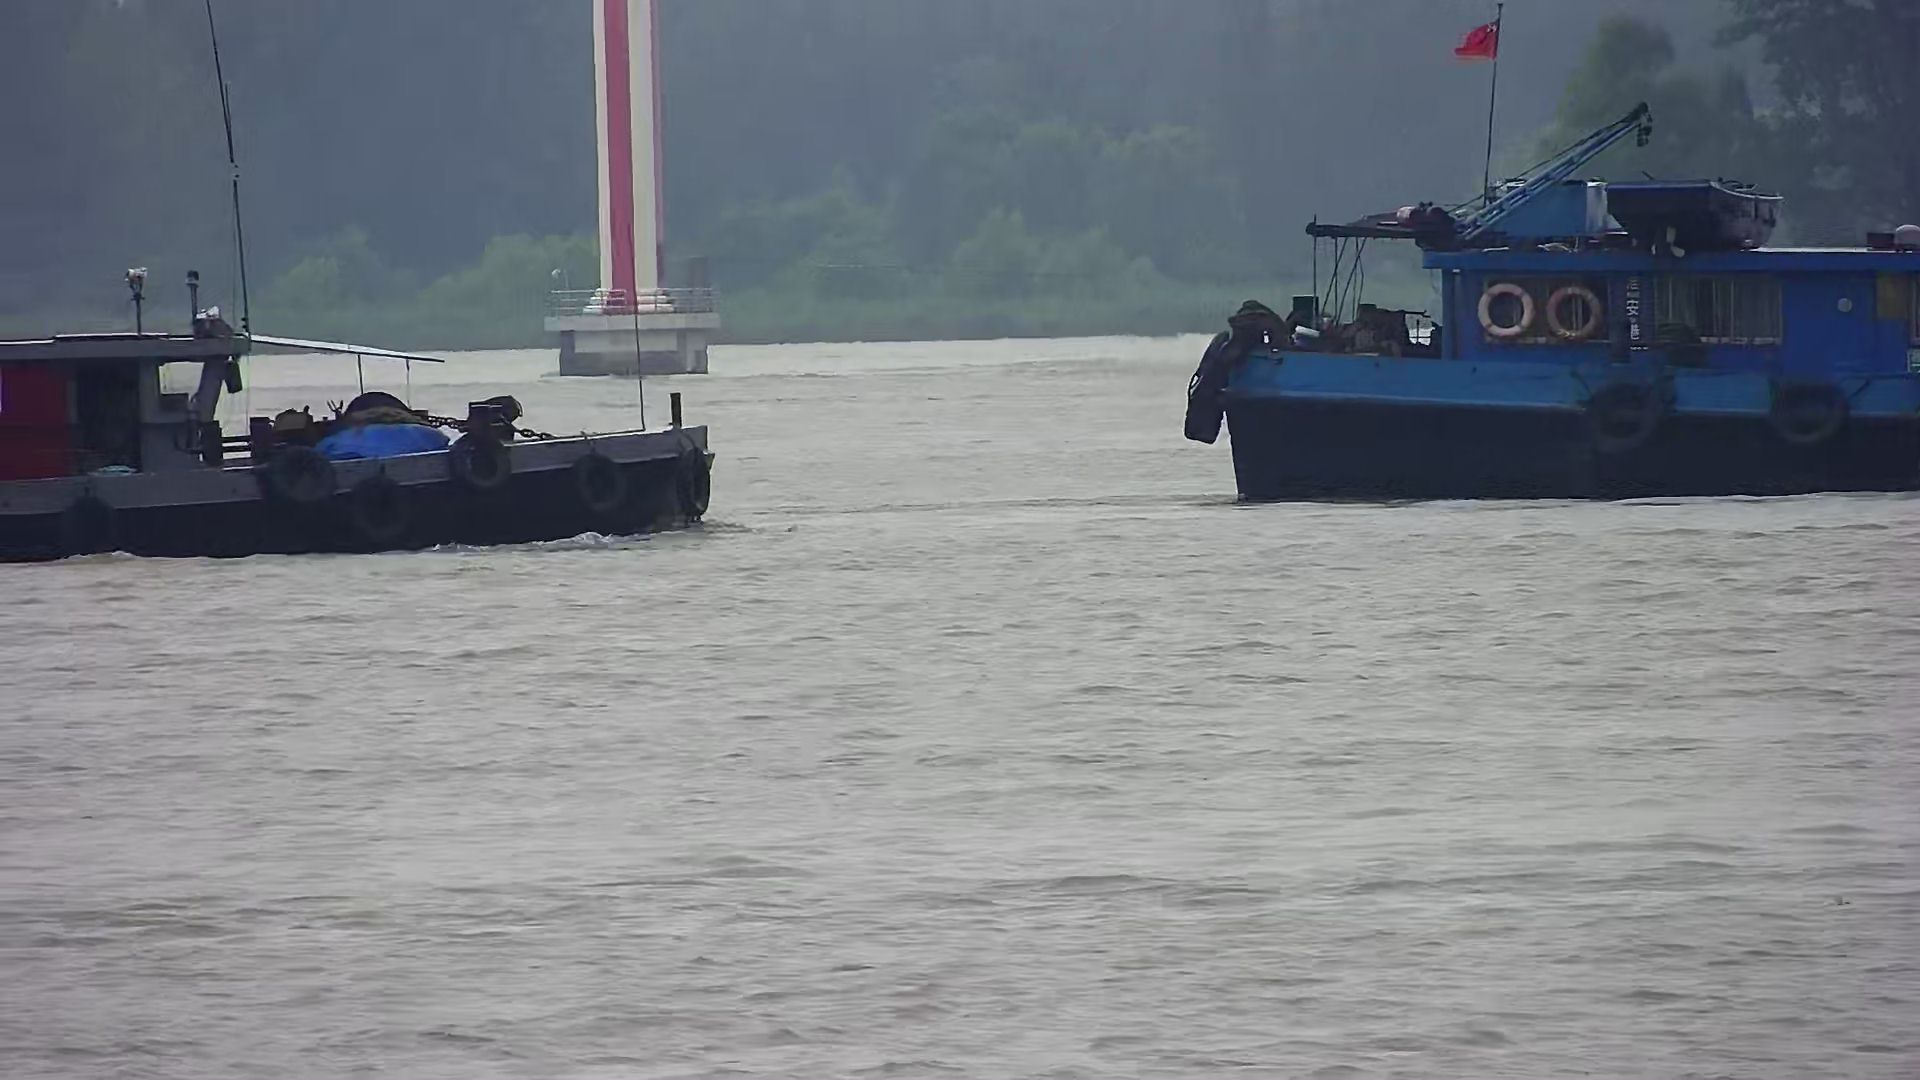platform: (539, 1, 716, 377)
ship: (1176, 104, 1920, 502), (3, 262, 709, 560)
